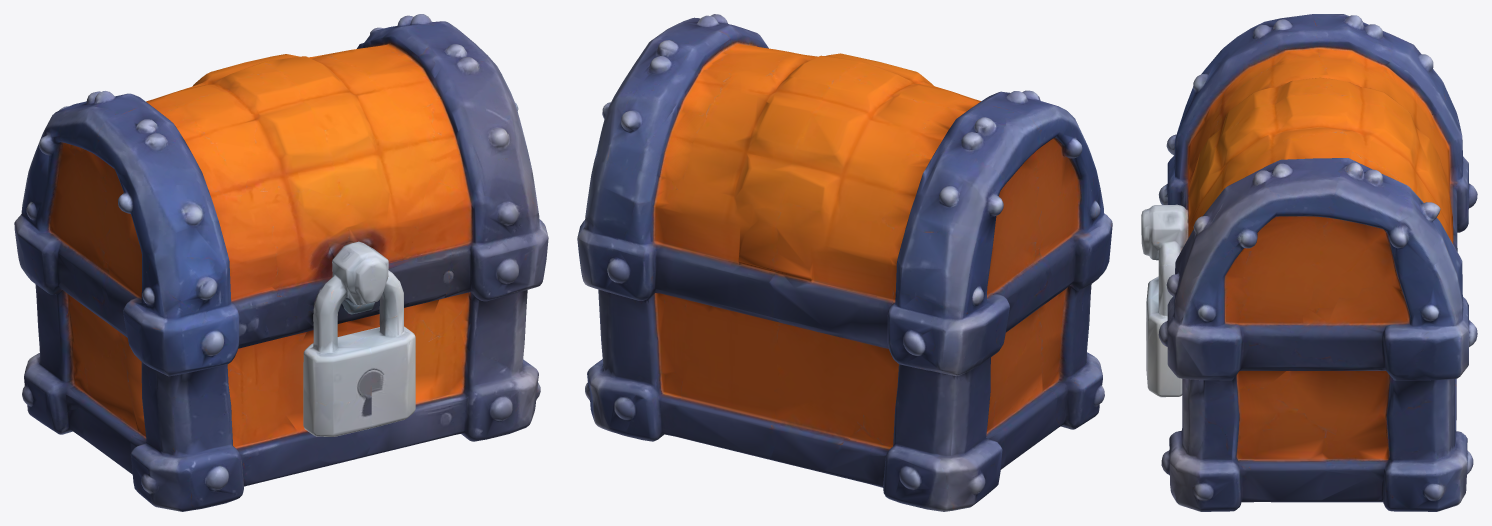
File: chest_common.glb
The picture shows the model from 3 angles, left to right: view 1: azimuth 30°, elevation 25°; view 2: azimuth 150°, elevation 25°; view 3: azimuth 270°, elevation 25°; orthographic projection. The views are drawn at different scales.
Visible parts, largest first — view 1: lid, body; view 2: lid, body; view 3: lid, body.
Boxes of the visible parts, left/top/right/bottom form: lid: left=14, top=14, right=548, bottom=355; body: left=17, top=247, right=545, bottom=511; lid: left=577, top=14, right=1112, bottom=355; body: left=580, top=248, right=1110, bottom=511; lid: left=1141, top=14, right=1477, bottom=362; body: left=1146, top=202, right=1475, bottom=511.
Size of the model in its own units: 0.9999 by 0.8387 by 0.7515.
3 materials, 1 textured.
